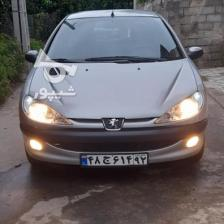plate: (78, 152, 149, 165)
